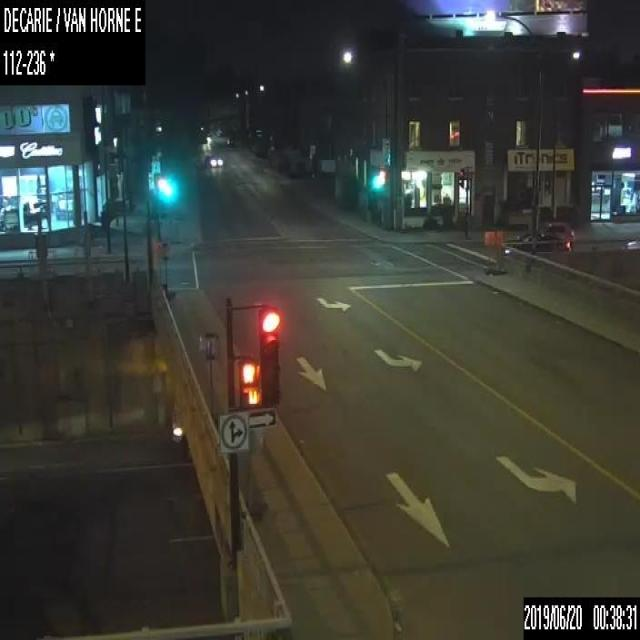construction: (199, 331, 224, 428), (242, 426, 265, 516), (492, 228, 503, 274), (483, 231, 492, 273)
vehicle: (516, 230, 570, 251), (537, 221, 574, 239), (205, 152, 224, 167), (623, 235, 639, 250)
